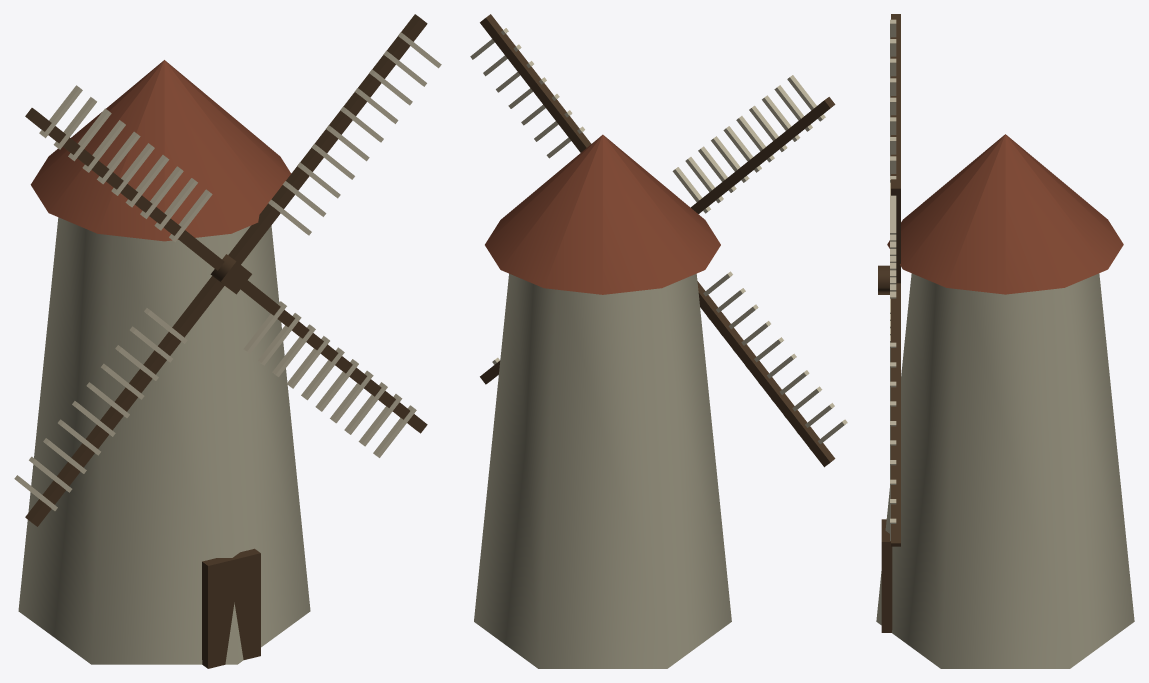
The picture shows the model from 3 angles, left to right: view 1: azimuth 30°, elevation 25°; view 2: azimuth 150°, elevation 25°; view 3: azimuth 270°, elevation 25°; orthographic projection. The views are drawn at different scales.
Visible parts, largest first — view 1: alpine-body, alpine-windmill-rotor; view 2: alpine-body, alpine-windmill-rotor; view 3: alpine-body, alpine-windmill-rotor.
Part boxes in pixels (<box>): alpine-body: <box>18,60,310,668</box>; alpine-windmill-rotor: <box>14,14,441,526</box>; alpine-body: <box>474,134,731,668</box>; alpine-windmill-rotor: <box>470,14,847,467</box>; alpine-body: <box>876,134,1134,668</box>; alpine-windmill-rotor: <box>890,14,900,546</box>.
Size of the model in its own units: 12.06 by 16.53 by 7.2.
